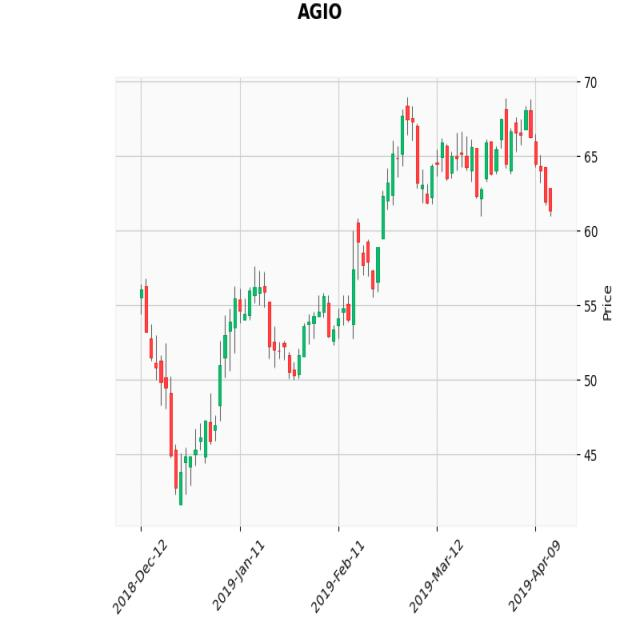Double-Top: (380, 91, 552, 219)
